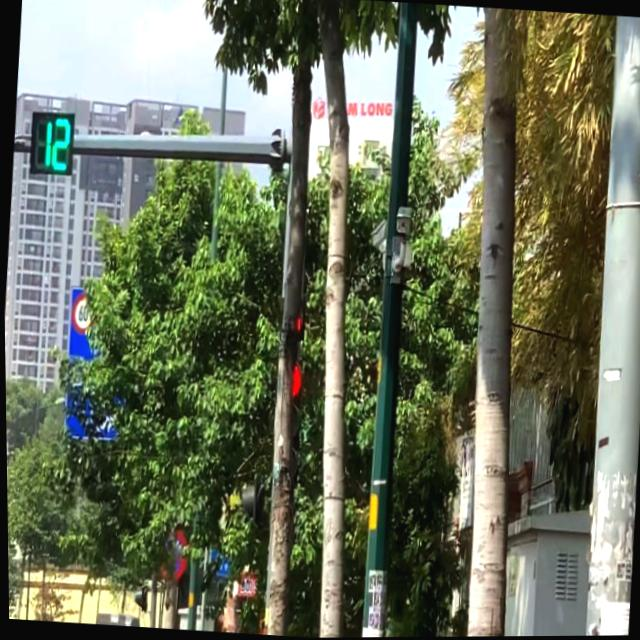Toc do toi da cho phep: (69, 291, 94, 335)
